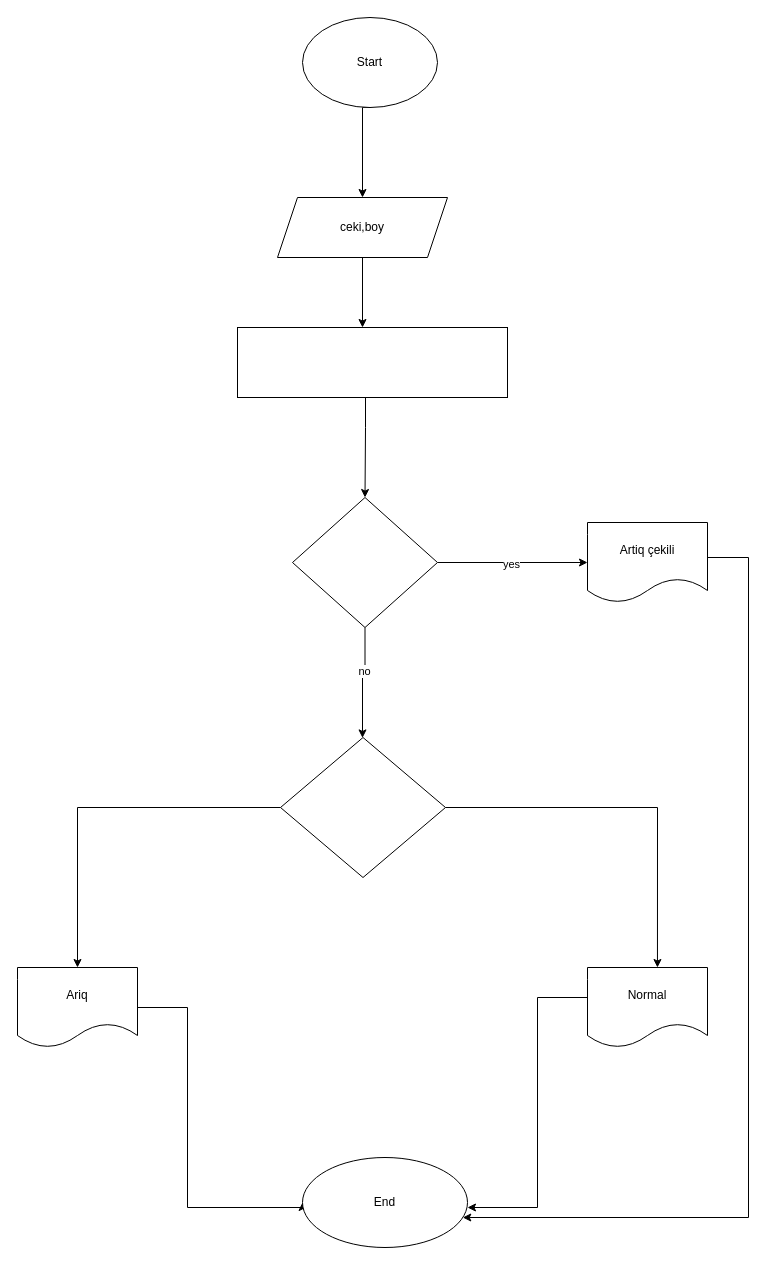
Some shapes in this 774 by 1265 pixel diagram are drawn without their labels. The shapes that lost their labels are listed below. From the top down, each one's centre as x and y in pixels, then its label:
At point 372,362: "bim=ceki/(boy*boy)".
At point 365,562: "bim>25".
At point 363,807: "bim>=18.6&&bim<=24.9".
